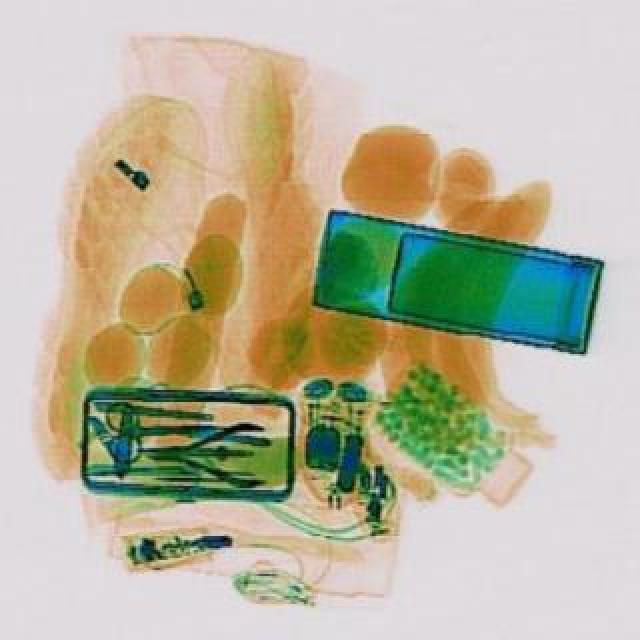pliers: (104, 398, 212, 458)
wrench: (138, 416, 266, 484)
